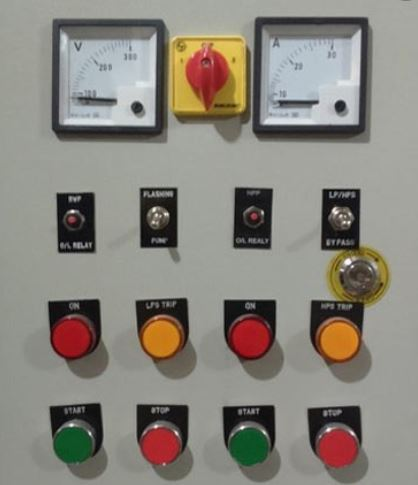Green_Led_Off: (224, 418, 279, 471), (49, 417, 100, 469)
Red_Led_Off: (224, 309, 278, 366), (309, 422, 369, 473), (46, 312, 100, 366), (137, 418, 190, 472)
Yellow_Led_Off: (311, 312, 367, 367), (135, 314, 190, 367)
